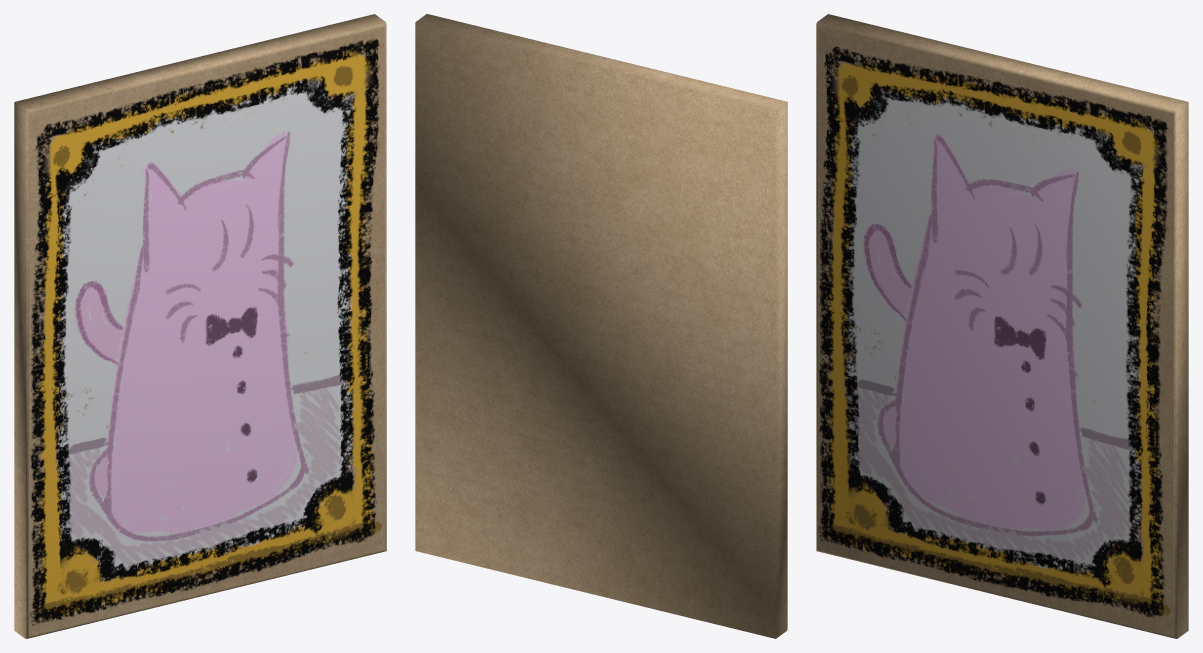
File: 20s_Picframe2.fbx
3 views of the same model, side by side, from view 1: azimuth 30°, elevation 25°; view 2: azimuth 150°, elevation 25°; view 3: azimuth 330°, elevation 25° (orthographic).
Visible parts, largest first — view 1: 20s_PicFrame2; view 2: 20s_PicFrame2; view 3: 20s_PicFrame2.
Part boxes in pixels (x1,y1,x2,y2): 20s_PicFrame2: [14, 14, 386, 638]; 20s_PicFrame2: [415, 14, 787, 638]; 20s_PicFrame2: [816, 14, 1188, 638].
Size of the model in its own units: 92.2 by 129 by 5.59.
